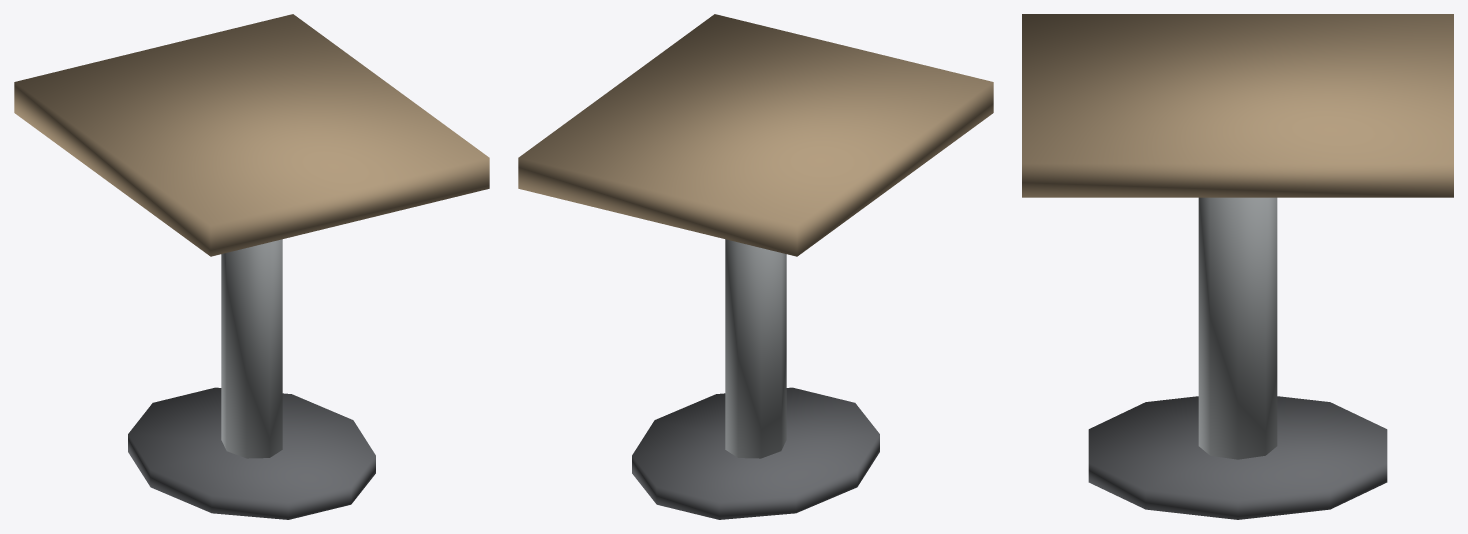
The model's file is cafe_pedestal_table__deep.glb.
The picture shows the model from 3 angles, left to right: view 1: azimuth 30°, elevation 25°; view 2: azimuth 150°, elevation 25°; view 3: azimuth 270°, elevation 25°; orthographic projection. The views are drawn at different scales.
Visible parts, largest first — view 1: world; view 2: world; view 3: world.
Part boxes in pixels (left/top/right/bottom): world: left=14, top=14, right=489, bottom=519; world: left=518, top=14, right=993, bottom=519; world: left=1022, top=14, right=1453, bottom=519.
Size of the model in its own units: 0.66 by 0.775 by 0.8052.
